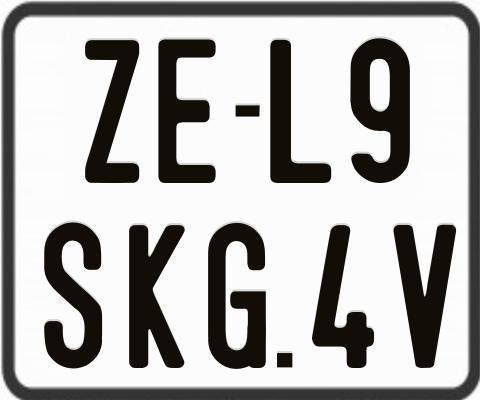4: (310, 222, 372, 368)
9: (350, 38, 411, 184)
E: (155, 36, 213, 186)
G: (205, 222, 263, 372)
K: (126, 224, 185, 369)
L: (269, 38, 332, 185)
S: (42, 219, 100, 368)
V: (391, 225, 454, 369)
Z: (84, 40, 142, 184)
